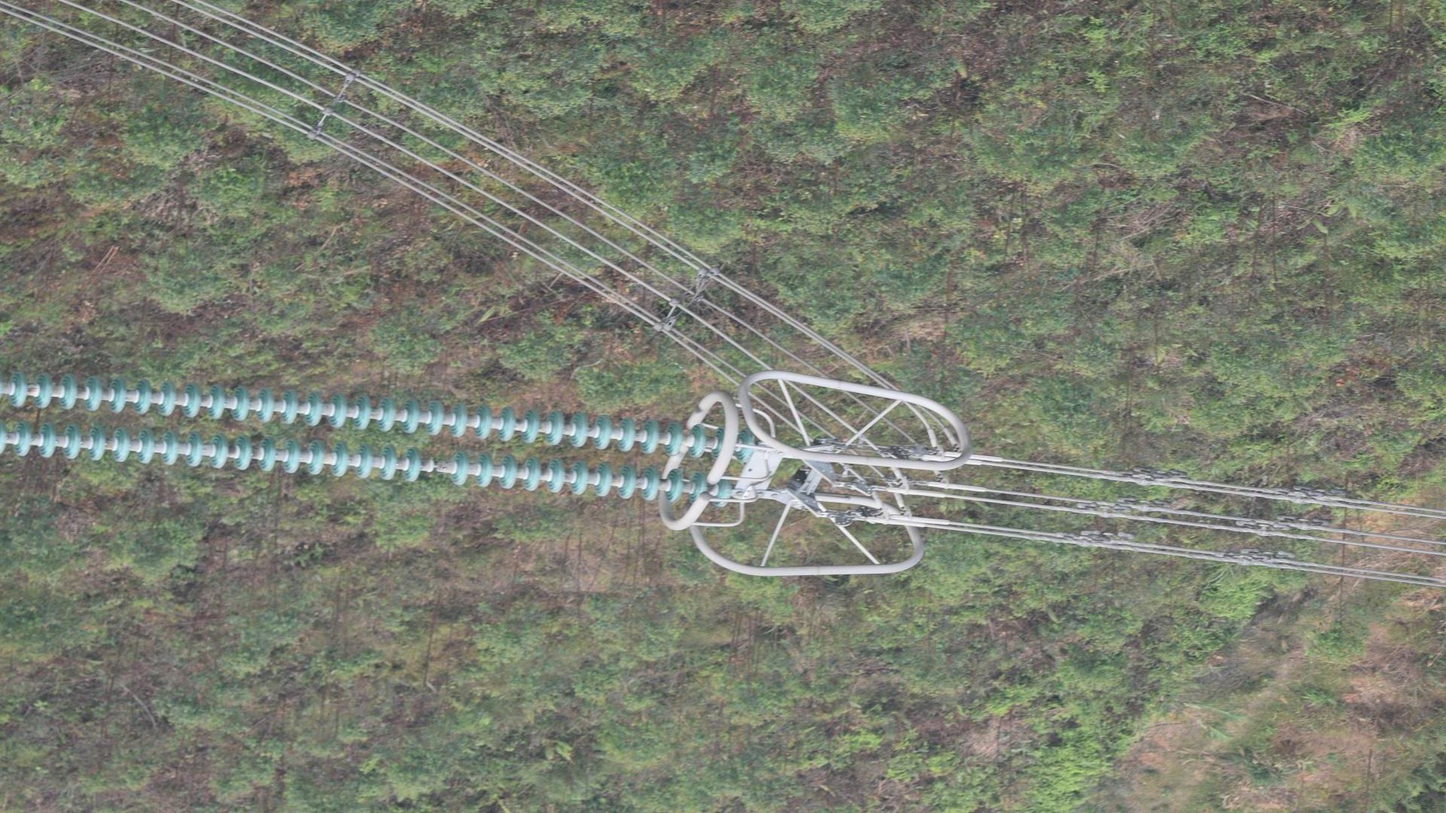insulator: (1, 360, 763, 517)
insulator_stringdrop: (398, 444, 473, 491)
